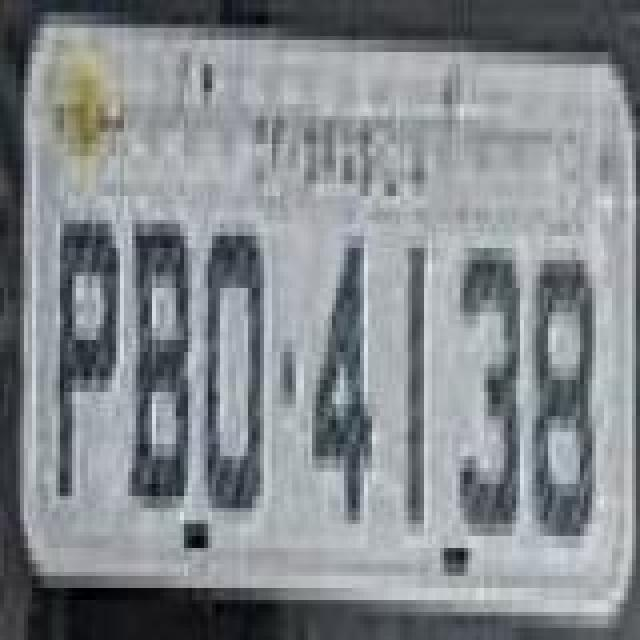1: (404, 234, 428, 534)
3: (452, 242, 524, 542)
4: (312, 232, 376, 520)
8: (532, 250, 596, 550)
B: (130, 216, 190, 504)
O: (200, 228, 264, 516)
P: (56, 216, 120, 504)
